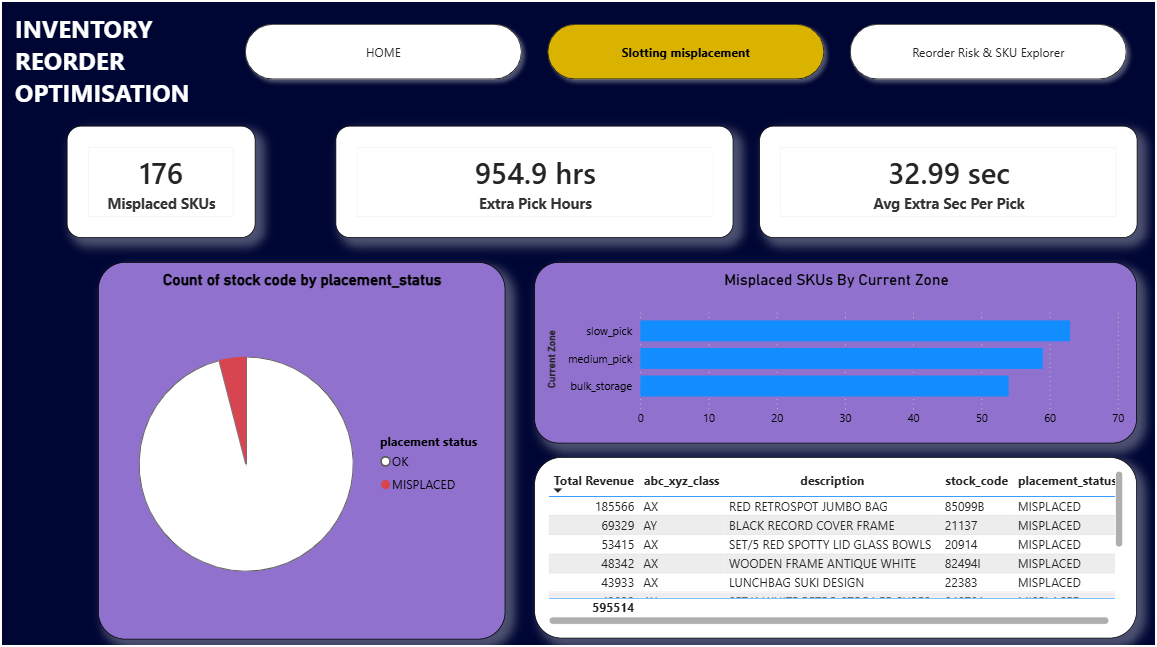

What the dashboard file says about the page in this screenshot:
{"tool":"powerbi","page":{"name":"Slotting misplacement","canvas":[1280,720],"ordinal":1},"visuals":[{"type":"pageNavigator","box":[262.2,20.6,988.5,79.7],"z":0},{"type":"textbox","box":[14.1,11.6,268.6,117],"z":1000},{"type":"cardVisual","fields":{"Data":["retail_slotting_db abc_xyz_matrix.Extra Pick Hours"]},"box":[370.2,141.4,437,123.4],"z":2000},{"type":"cardVisual","fields":{"Data":["retail_slotting_db misplaced_skus_analysis.Avg Extra Sec Per Pick"]},"box":[835.5,141.4,415.2,123.4],"z":3000},{"type":"cardVisual","fields":{"Data":["retail_slotting_db abc_xyz_matrix.Misplaced SKUs"]},"box":[75.8,141.4,206.9,123.4],"z":4000},{"type":"clusteredBarChart","title":"Misplaced SKUs By Current Zone","fields":{"Category":["retail_slotting_db slotting_misplacement.current_zone"],"Y":["CountNonNull(retail_slotting_db misplaced_skus_analysis.stock_code)"]},"box":[589.1,290.7,662,199.2],"z":5000},{"type":"pieChart","title":"Count of stock code by placement_status","fields":{"Y":["CountNonNull(retail_slotting_db slotting_misplacement.stock_code)"],"Category":["retail_slotting_db slotting_misplacement.placement_status"]},"box":[109.8,290.7,446.9,414.4],"z":6000},{"type":"tableEx","fields":{"Values":["retail_slotting_db abc_xyz_matrix.Total Revenue","retail_slotting_db abc_xyz_matrix.abc_xyz_class","retail_slotting_db abc_xyz_matrix.description","retail_slotting_db abc_xyz_matrix.stock_code","retail_slotting_db slotting_misplacement.placement_status"]},"box":[589.1,505.6,661.8,199.5],"z":7000}]}

Visuals, with their boxes in screenshot pixels (x1, y1, x2, y2), scaled from the page's 1280x720 canvas onto the 1157x647 screenshot:
pageNavigator: 237 19 1131 90
textbox: 13 10 256 116
cardVisual - retail_slotting_db abc_xyz_matrix.Extra Pick Hours: 335 127 730 238
cardVisual - retail_slotting_db misplaced_skus_analysis.Avg Extra Sec Per Pick: 755 127 1131 238
cardVisual - retail_slotting_db abc_xyz_matrix.Misplaced SKUs: 69 127 256 238
"Misplaced SKUs By Current Zone" clusteredBarChart: 532 261 1131 440
"Count of stock code by placement_status" pieChart: 99 261 503 634
tableEx - retail_slotting_db abc_xyz_matrix.Total Revenue x retail_slotting_db abc_xyz_matrix.abc_xyz_class: 532 454 1131 634
